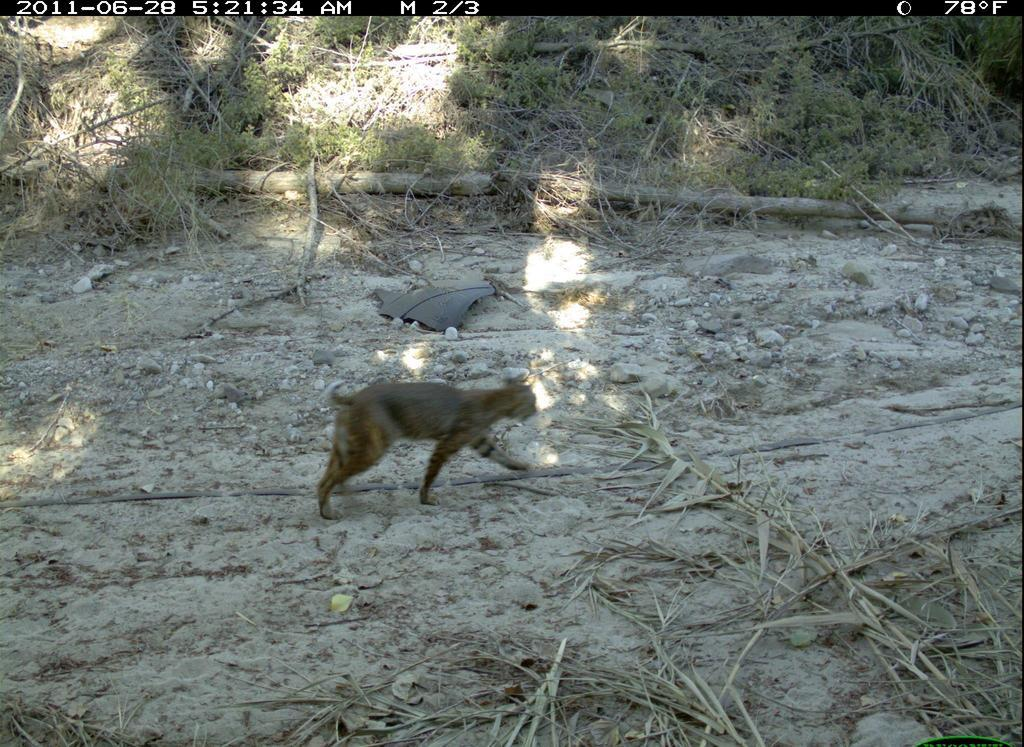bobcat: (310, 365, 553, 530)
